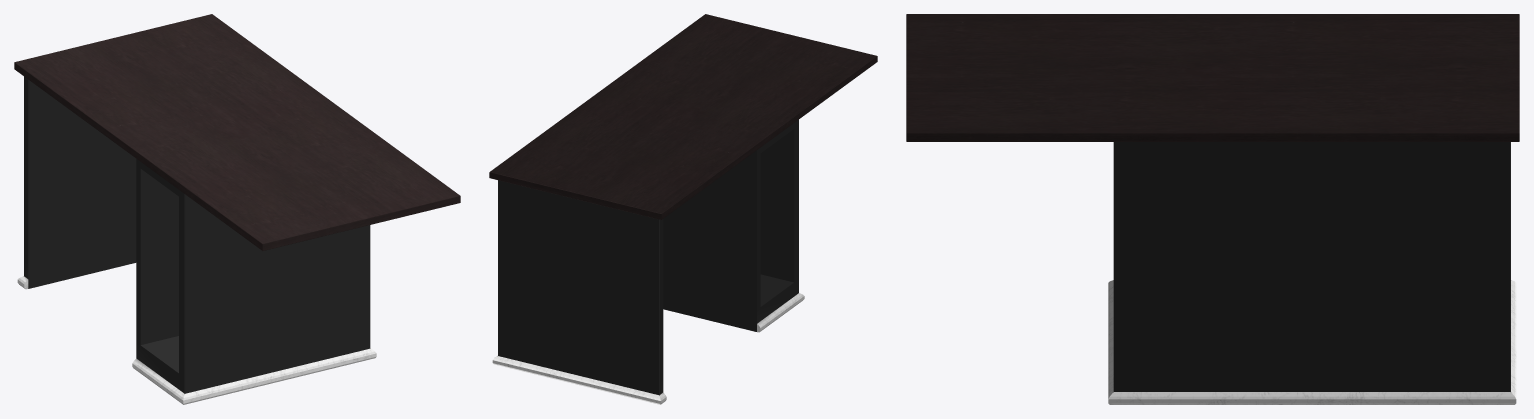
The model's file is StandardIslandHeight2_b5d12efe.obj.
3 views of the same model, side by side, from view 1: azimuth 30°, elevation 25°; view 2: azimuth 150°, elevation 25°; view 3: azimuth 270°, elevation 25° (orthographic). The views are drawn at different scales.
Parts seen in each view (by area): view 1: StandardIslandHeight2_b5d12efe; view 2: StandardIslandHeight2_b5d12efe; view 3: StandardIslandHeight2_b5d12efe.
Part boxes in pixels (x1,y1,x2,y2): StandardIslandHeight2_b5d12efe: (14, 14, 460, 404); StandardIslandHeight2_b5d12efe: (489, 14, 877, 404); StandardIslandHeight2_b5d12efe: (906, 14, 1519, 404).
Bounding box in the file's own units: 0.852 × 0.915 × 1.85.
